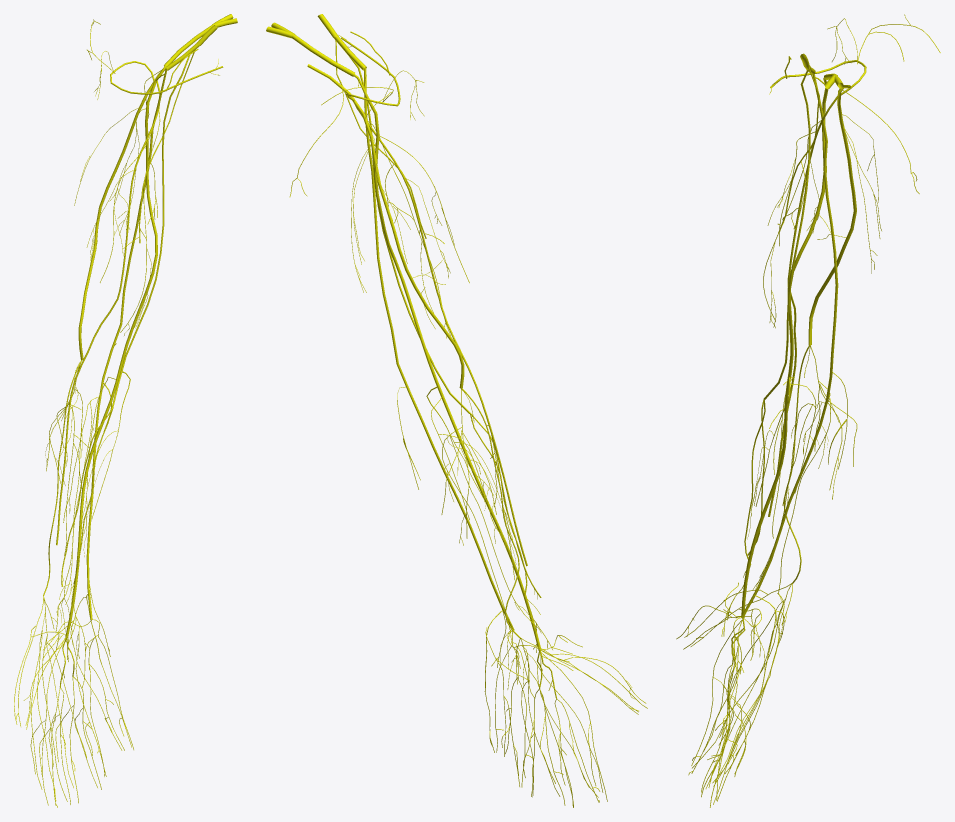
File: Upper limb Nerves(1).fbx
The picture shows the model from 3 angles, left to right: view 1: azimuth 30°, elevation 25°; view 2: azimuth 150°, elevation 25°; view 3: azimuth 270°, elevation 25°; orthographic projection. The views are drawn at different scales.
Parts seen in each view (by area): view 1: Median_C06_T01_, Ulnar_C08_T01_, MusculocutaneousC05_C07, Radial_C05_T01_, Medial_antebrachial_cutaneous_C08_T01_, Radial_superficial_branch, Axillary_C05_C06_; view 2: Median_C06_T01_, Ulnar_C08_T01_, Radial_C05_T01_, MusculocutaneousC05_C07; view 3: Median_C06_T01_, Ulnar_C08_T01_, Radial_C05_T01_, MusculocutaneousC05_C07, Medial_antebrachial_cutaneous_C08_T01_.
Boxes of the visible parts, box(x1,y1,x2,y2) form: Median_C06_T01_: box(65, 83, 157, 637); Ulnar_C08_T01_: box(86, 68, 167, 619); MusculocutaneousC05_C07: box(56, 81, 160, 545); Radial_C05_T01_: box(78, 69, 165, 360); Medial_antebrachial_cutaneous_C08_T01_: box(111, 55, 190, 409); Radial_superficial_branch: box(43, 360, 81, 595); Axillary_C05_C06_: box(110, 61, 223, 94); Median_C06_T01_: box(364, 93, 541, 650); Ulnar_C08_T01_: box(364, 68, 514, 630); Radial_C05_T01_: box(307, 64, 464, 388); MusculocutaneousC05_C07: box(354, 104, 527, 566); Median_C06_T01_: box(741, 88, 828, 618); Ulnar_C08_T01_: box(741, 74, 838, 618); Radial_C05_T01_: box(808, 85, 856, 345); MusculocutaneousC05_C07: box(768, 95, 838, 516); Medial_antebrachial_cutaneous_C08_T01_: box(764, 70, 810, 399).
Bounding box in the file's own units: 30.66 × 73.49 × 20.77.
